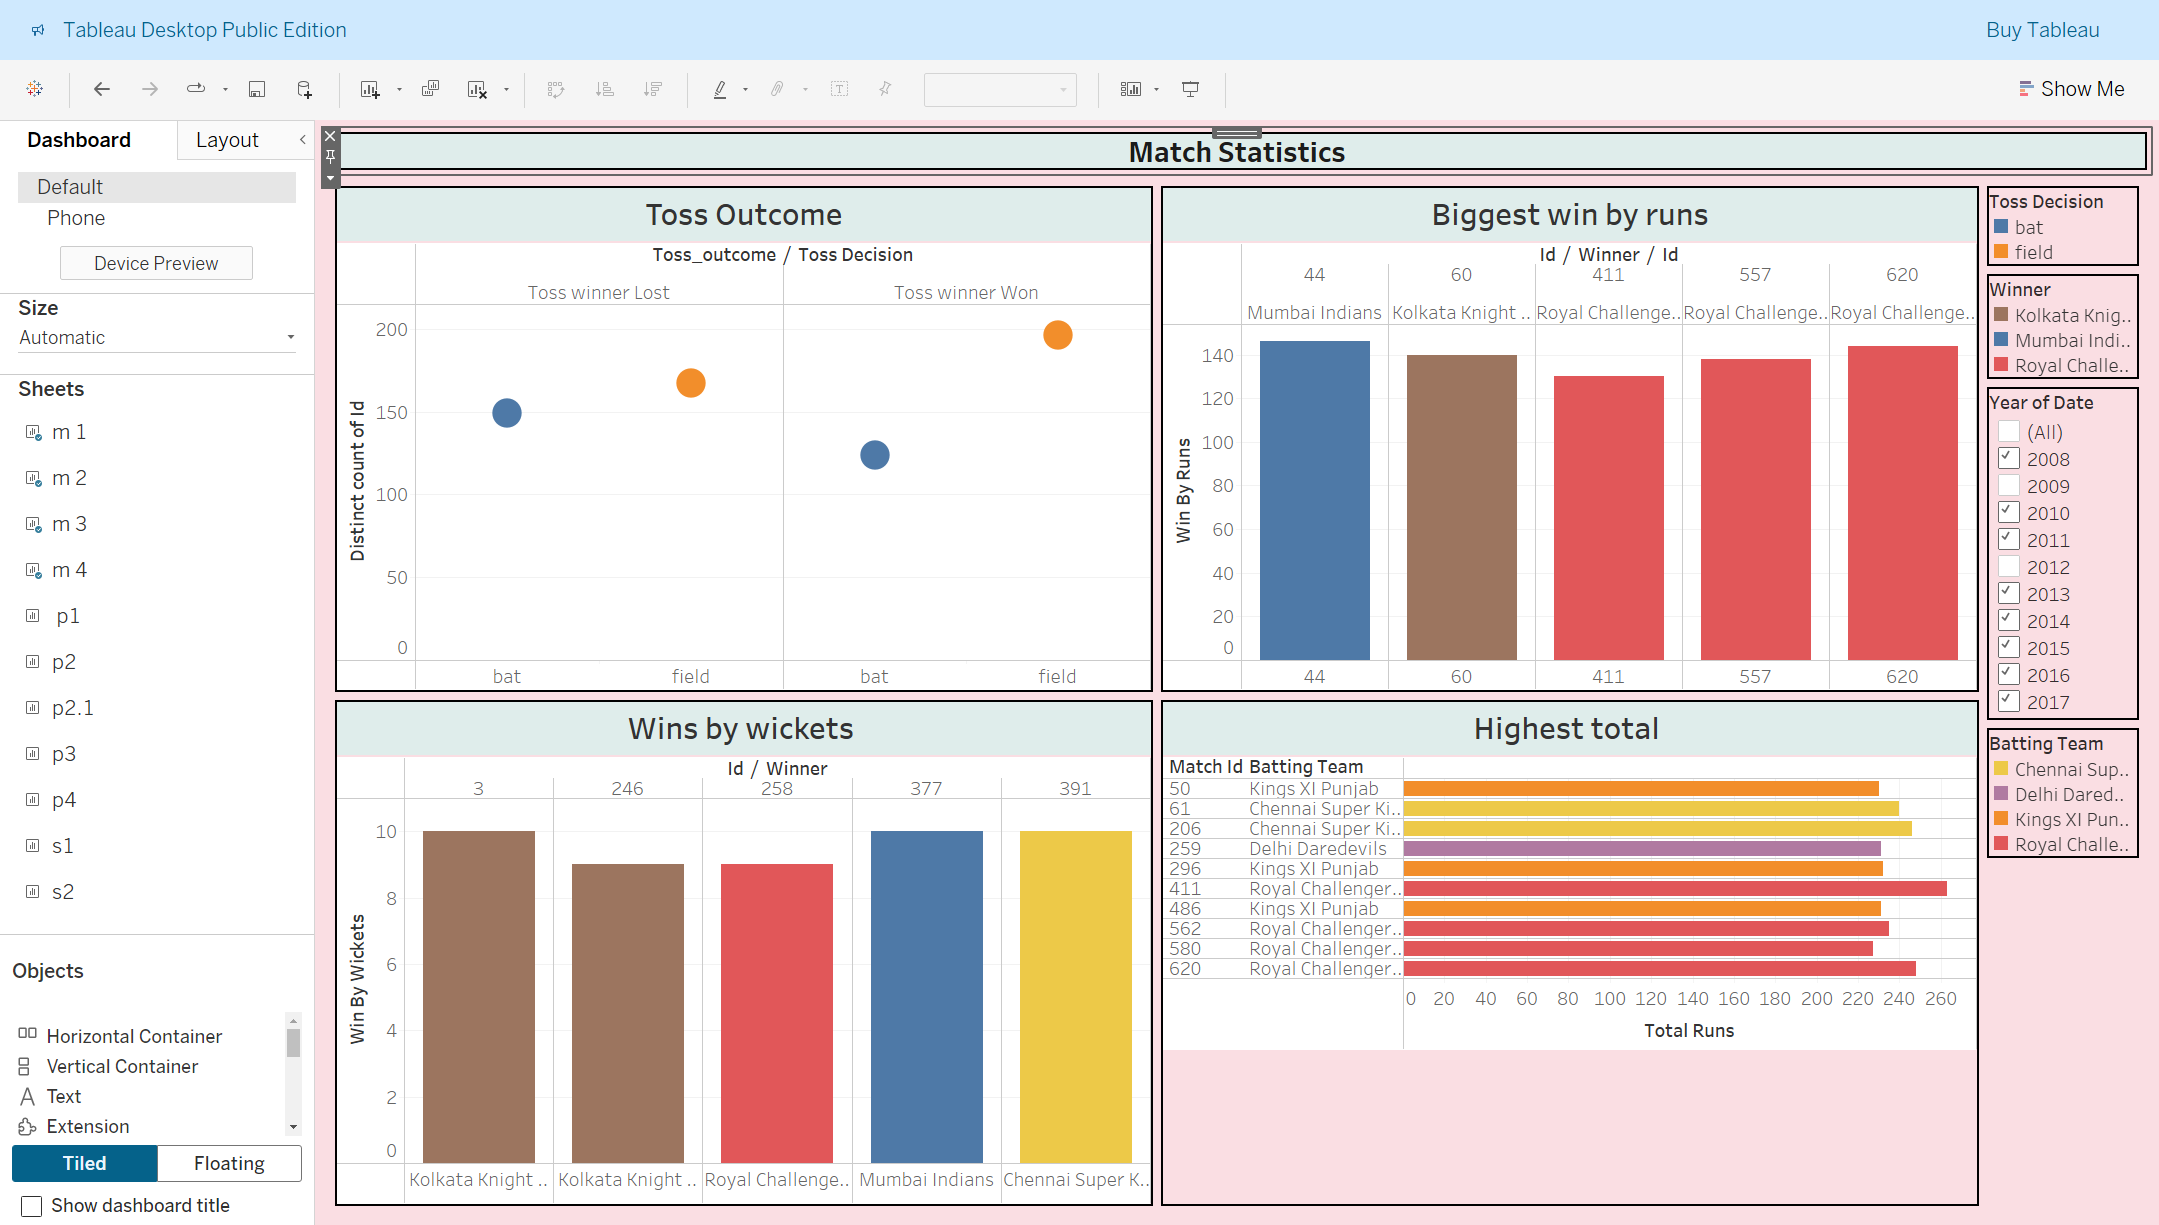

This screenshot's page, from the dashboard's own definition file:
{"tool":"tableau","page":{"name":"match","canvas":[1000,1000],"units":"permille","ordinal":0},"visuals":[{"type":"title","box":[4.3,7.2,991.3,41.6]},{"type":"worksheet","title":"m 1","mark":"Shape","rows":["id"],"cols":["Calculation_99642168537239552","toss_decision"],"box":[8.7,56.1,447.9,464.7]},{"type":"worksheet","title":"m 2","mark":"Automatic","rows":["win_by_runs"],"cols":["id","winner","id"],"box":[456.6,56.1,448,464.7]},{"type":"legend","title":"m 1","param":"[federated.1xgo8gq0ciczm31bon2gl15yu2lw].[none:toss_decision:nk]","box":[904.6,56.1,86.8,79.6]},{"type":"legend","title":"m 2","param":"[federated.1xgo8gq0ciczm31bon2gl15yu2lw].[none:winner:nk]","box":[904.6,135.6,86.8,102.2]},{"type":"filter","title":"m 4","param":"[federated.1xgo8gq0ciczm31bon2gl15yu2lw].[yr:date:ok]","box":[904.6,237.8,86.8,308.3]},{"type":"worksheet","title":"m 3","mark":"Automatic","rows":["win_by_wickets"],"cols":["id","winner"],"box":[8.7,520.8,447.9,464.8]},{"type":"worksheet","title":"m 4","mark":"Automatic","rows":["match_id","batting_team"],"cols":["total_runs"],"box":[456.6,520.8,448,464.8]},{"type":"legend","title":"m 4","param":"[federated.1xgo8gq0ciczm31bon2gl15yu2lw].[none:batting_team:nk]","box":[904.6,546.1,86.8,124.8]}]}

Visuals, with their boxes on the dashboard's canvas, which has no fixed pixel size, in thousandths of its width and height (x1, y1, x2, y2). These are canvas units, not pixel positions in the 2159x1225 screenshot, which may show the page scaled, cropped or inside an application window:
title: box(4, 7, 996, 49)
"m 1" worksheet (Shape marks): box(9, 56, 457, 521)
"m 2" worksheet: box(457, 56, 905, 521)
"m 1" legend: box(905, 56, 991, 136)
"m 2" legend: box(905, 136, 991, 238)
"m 4" filter: box(905, 238, 991, 546)
"m 3" worksheet: box(9, 521, 457, 986)
"m 4" worksheet: box(457, 521, 905, 986)
"m 4" legend: box(905, 546, 991, 671)
